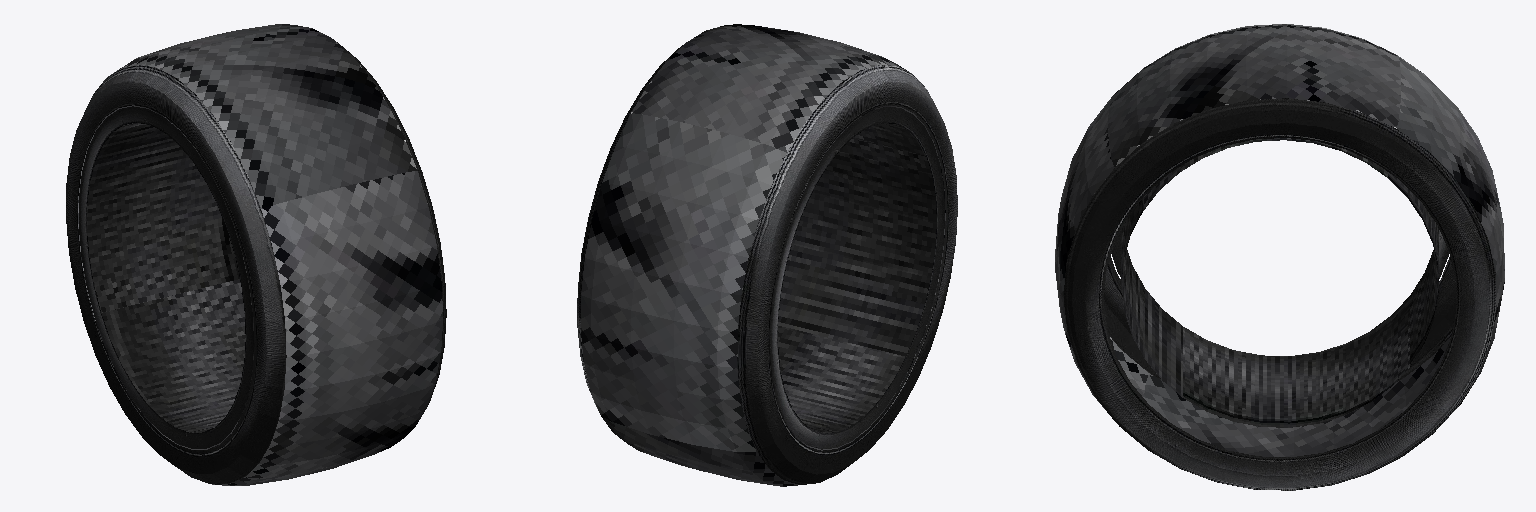
3 views of the same model, side by side, from view 1: azimuth 30°, elevation 25°; view 2: azimuth 150°, elevation 25°; view 3: azimuth 270°, elevation 25° (orthographic).
Parts seen in each view (by area): view 1: Llanta1_Carro; view 2: Llanta1_Carro; view 3: Llanta1_Carro.
Part boxes in pixels (x1,y1,x2,y2): Llanta1_Carro: (66, 24, 446, 485); Llanta1_Carro: (577, 24, 957, 486); Llanta1_Carro: (1055, 24, 1504, 490).
Bounding box in the file's own units: 9.67 × 21.02 × 21.01.
1 materials, 1 textured.